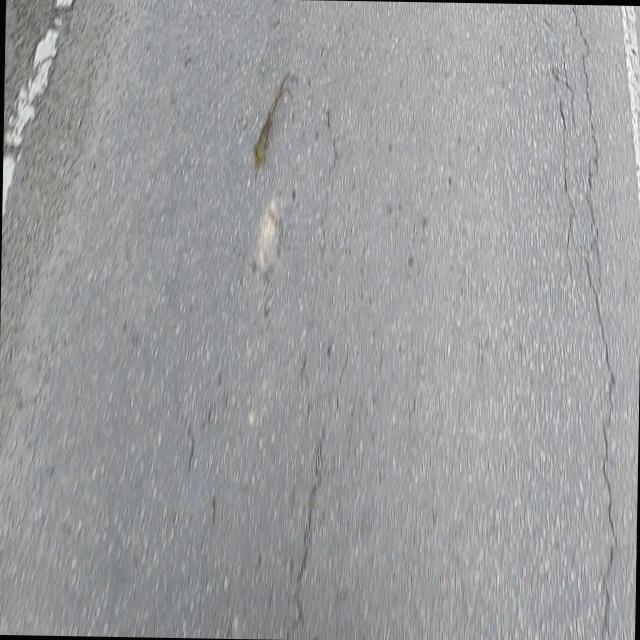Retak-Memanjang: (571, 4, 619, 638), (295, 438, 328, 630), (551, 84, 572, 278)
